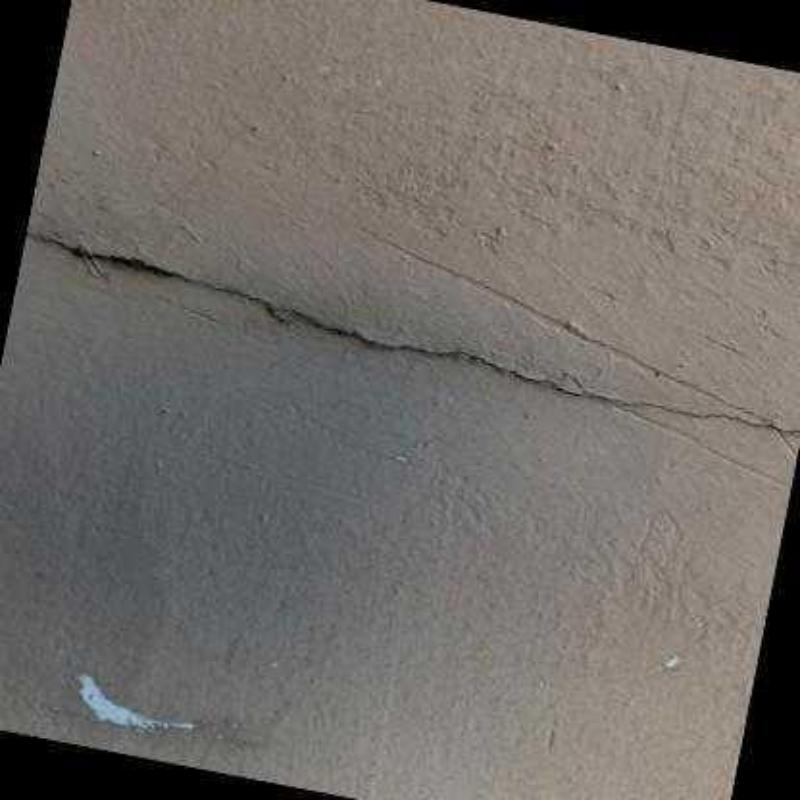pothole: (25, 232, 797, 435)
